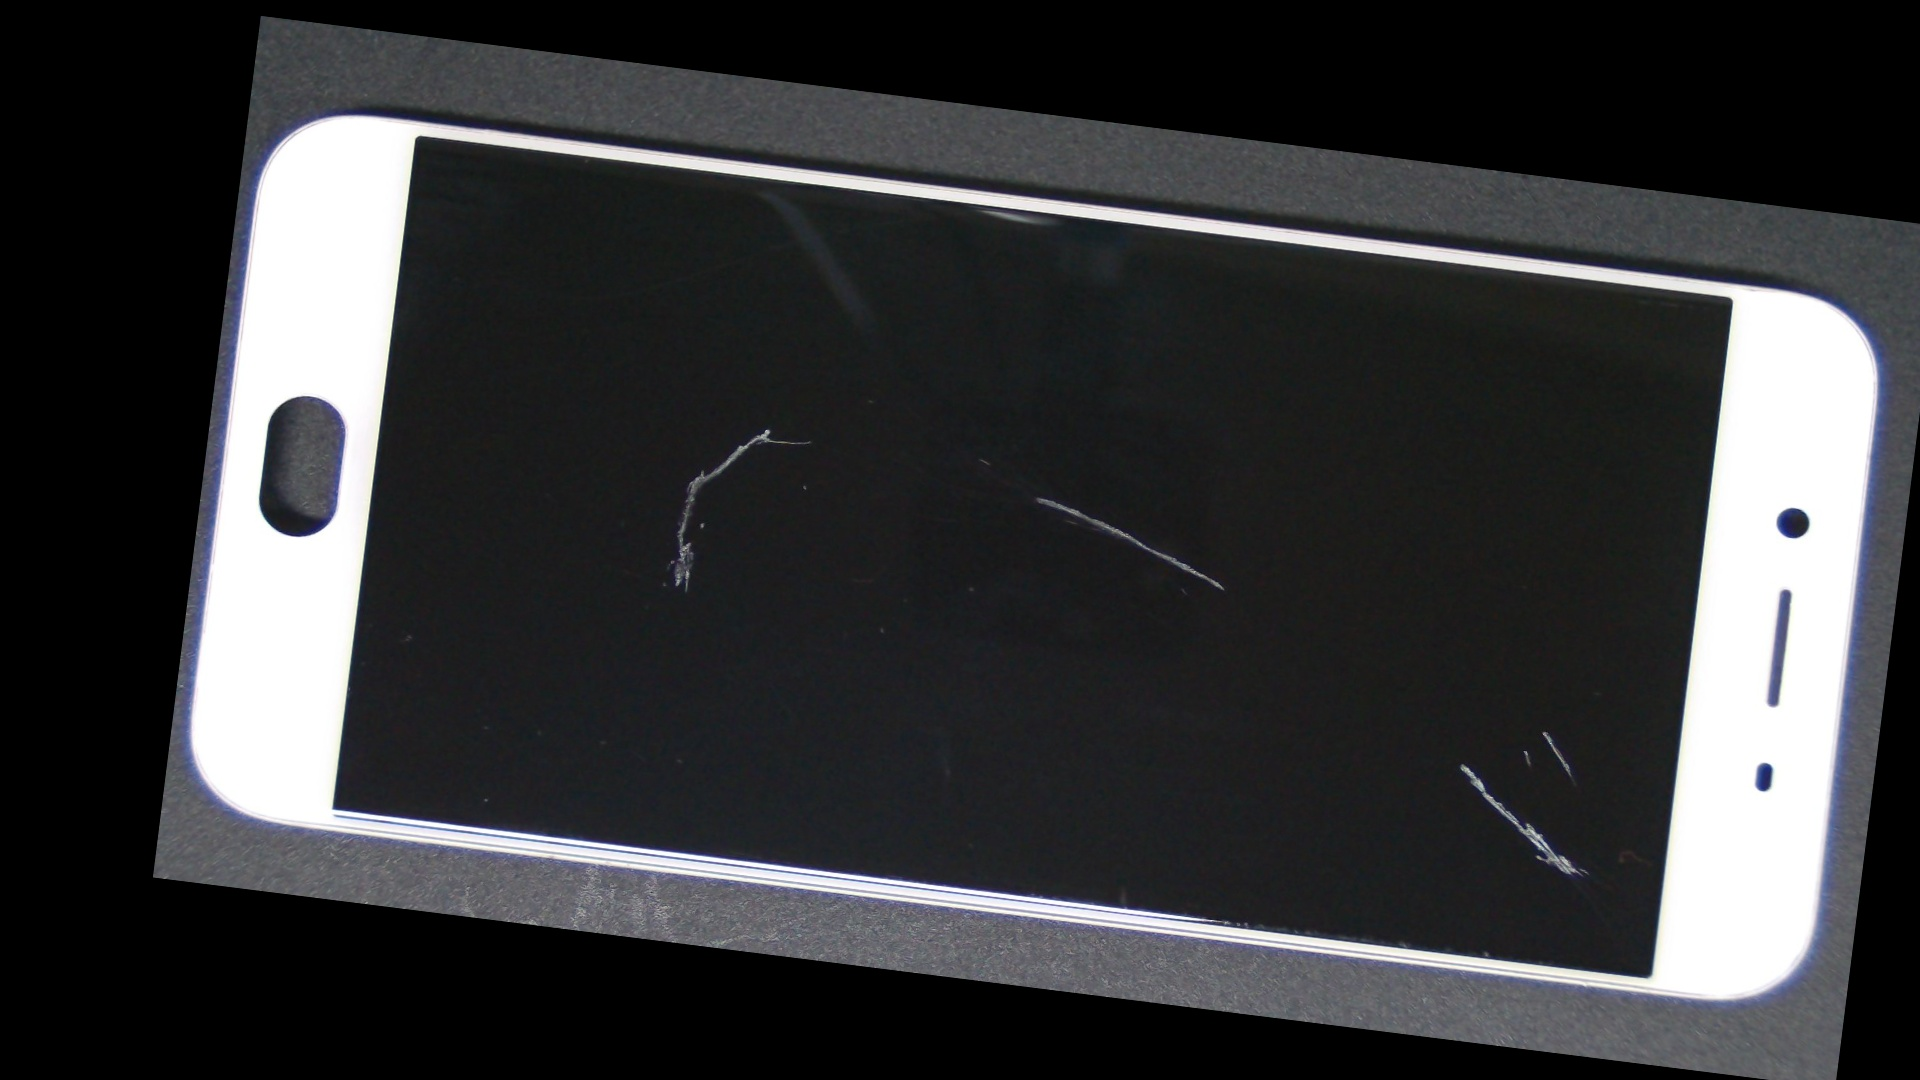oil: (790, 389, 1907, 1080), (823, 382, 1908, 1077), (835, 373, 1909, 1046), (603, 256, 1473, 737), (472, 222, 1064, 636)
